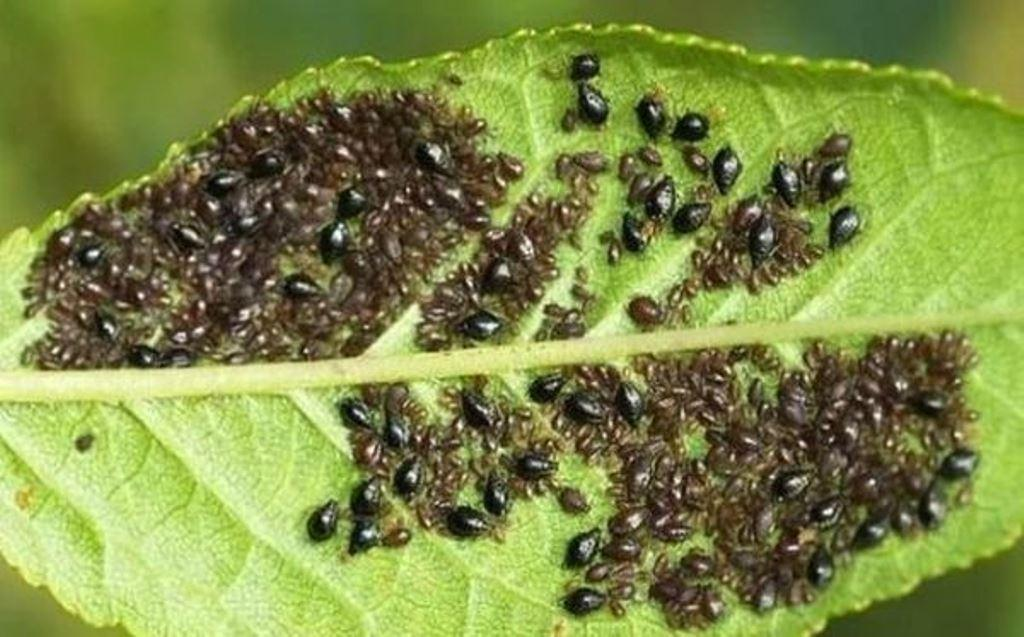Myzus persicae: (299, 333, 981, 629), (23, 85, 525, 367), (421, 199, 588, 346), (669, 192, 824, 308), (486, 194, 588, 323), (734, 204, 808, 282)
